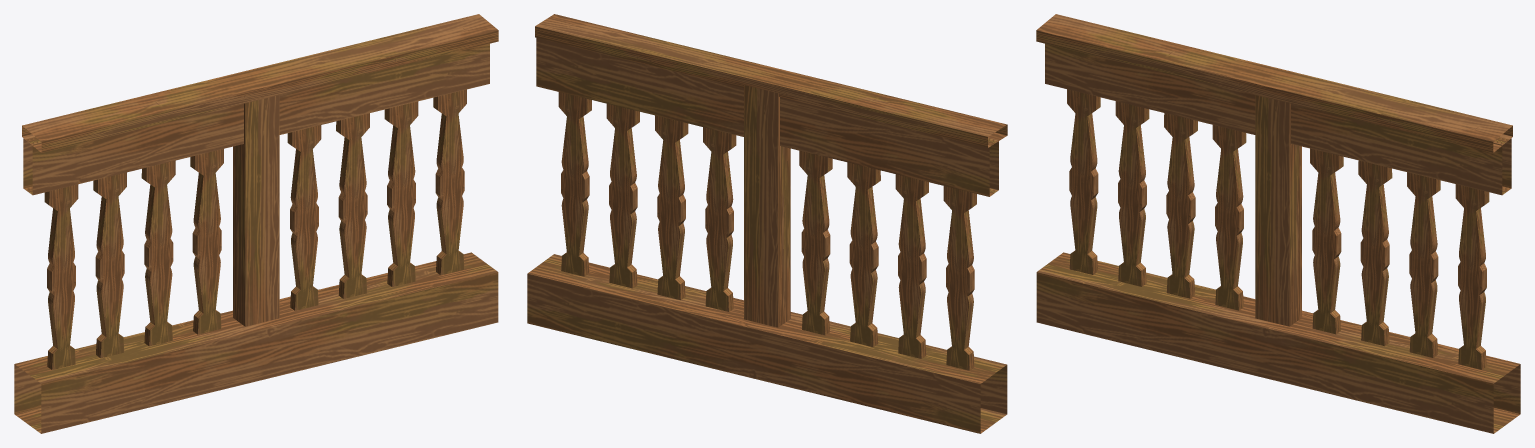
File: Balcony_Simple_Straight.gltf
3 renders of one model, left to right at view 1: azimuth 30°, elevation 25°; view 2: azimuth 150°, elevation 25°; view 3: azimuth 330°, elevation 25°, orthographic.
Visible parts, largest first — view 1: Balcony_Simple_Straight; view 2: Balcony_Simple_Straight; view 3: Balcony_Simple_Straight.
Part boxes in pixels (<box>): Balcony_Simple_Straight: <box>14,14,498,433</box>; Balcony_Simple_Straight: <box>527,14,1007,433</box>; Balcony_Simple_Straight: <box>1036,14,1520,433</box>.
Bounding box in the file's own units: 2 × 1.23 × 0.2063.
1 material, 1 textured.
